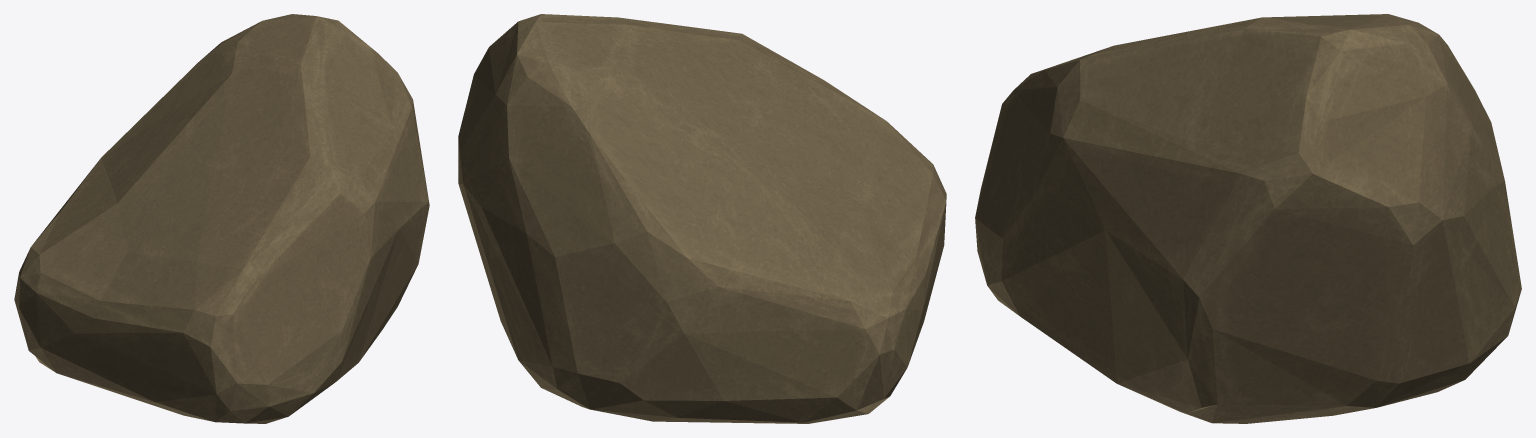
The model's file is ARC0510115.fbx.
3 views of the same model, side by side, from view 1: azimuth 30°, elevation 25°; view 2: azimuth 150°, elevation 25°; view 3: azimuth 270°, elevation 25° (orthographic). The views are drawn at different scales.
Parts seen in each view (by area): view 1: smARC0510115; view 2: smARC0510115; view 3: smARC0510115.
Part boxes in pixels (<box>): smARC0510115: <box>14,14,429,423</box>; smARC0510115: <box>458,14,946,423</box>; smARC0510115: <box>975,14,1521,423</box>.
Bounding box in the file's own units: 734 × 539 × 671.
1 material, 1 textured.
